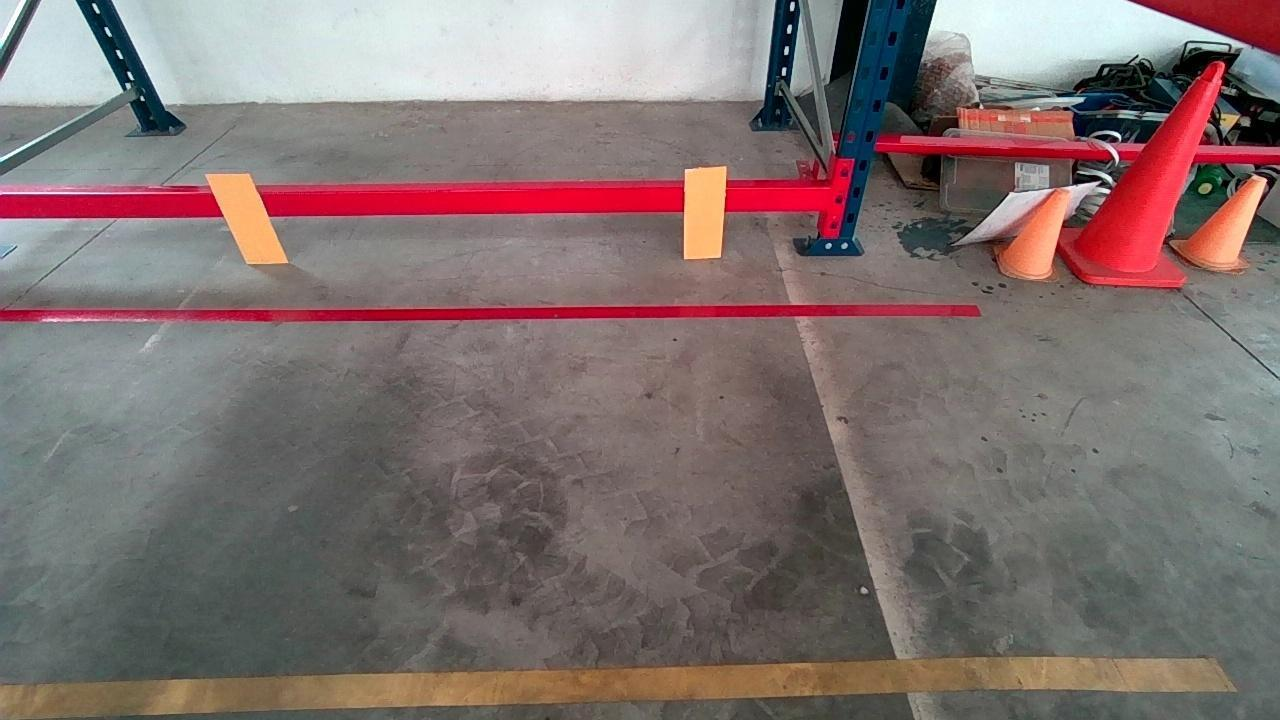h_rack: (6, 182, 838, 223)
orange_strip: (208, 173, 286, 263), (683, 166, 725, 257)
red_line: (8, 293, 983, 329)
yellow_line: (9, 651, 1226, 719)
